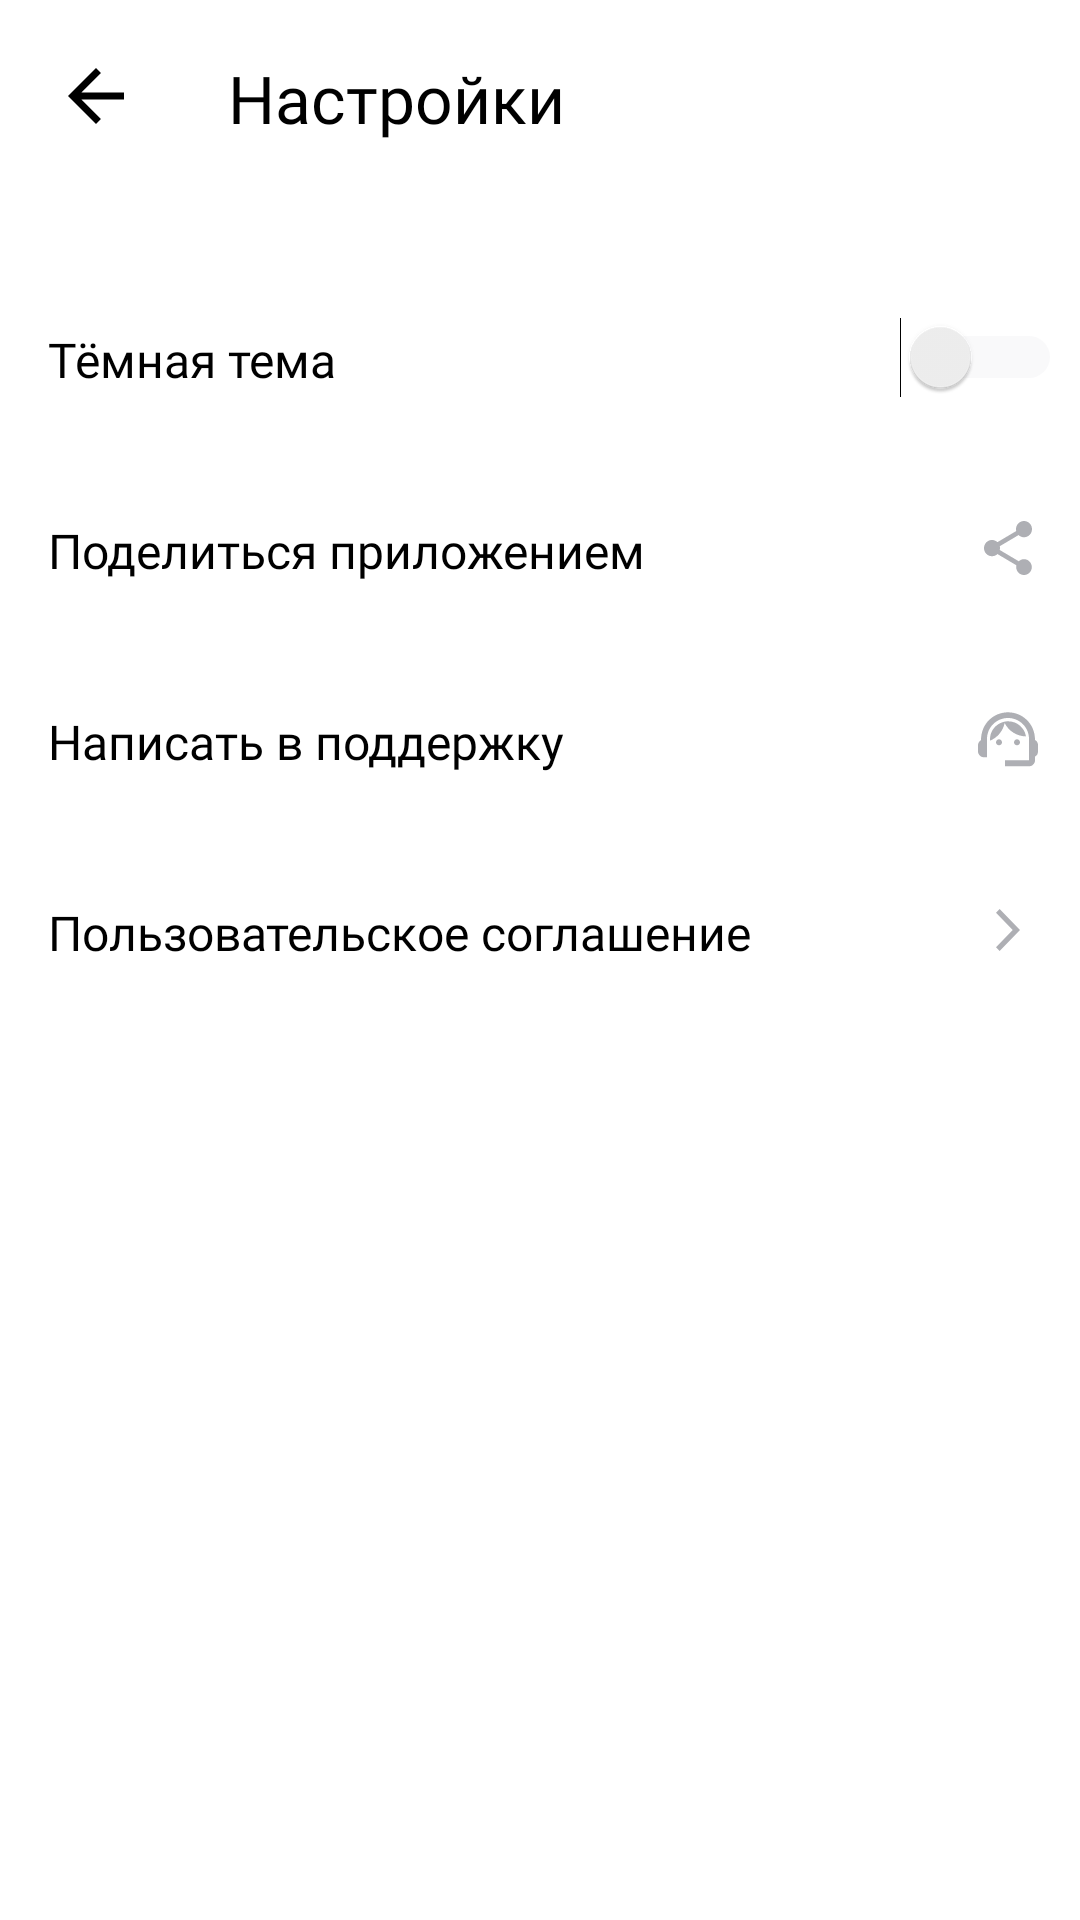

Icons on this 1080px x 1920px Android screen, each with its box as (x1, y1, x2, y2):
left: (68, 68, 124, 124)
right: (996, 909, 1020, 951)
share: (984, 521, 1032, 575)
support: (978, 712, 1038, 766)
